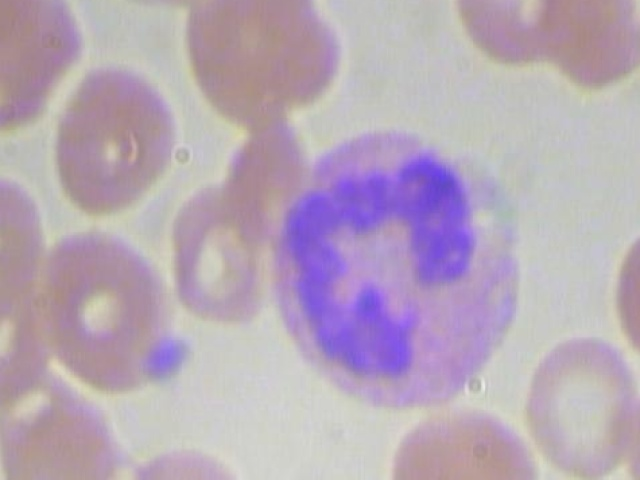Platelets: (144, 325, 197, 393)
RBC: (31, 220, 182, 405), (171, 0, 348, 135), (54, 63, 201, 221), (516, 330, 640, 480), (388, 397, 554, 480), (440, 0, 587, 73), (595, 217, 640, 374), (110, 445, 254, 480), (620, 378, 640, 480), (83, 0, 223, 12)
WBC: (267, 106, 539, 425)
